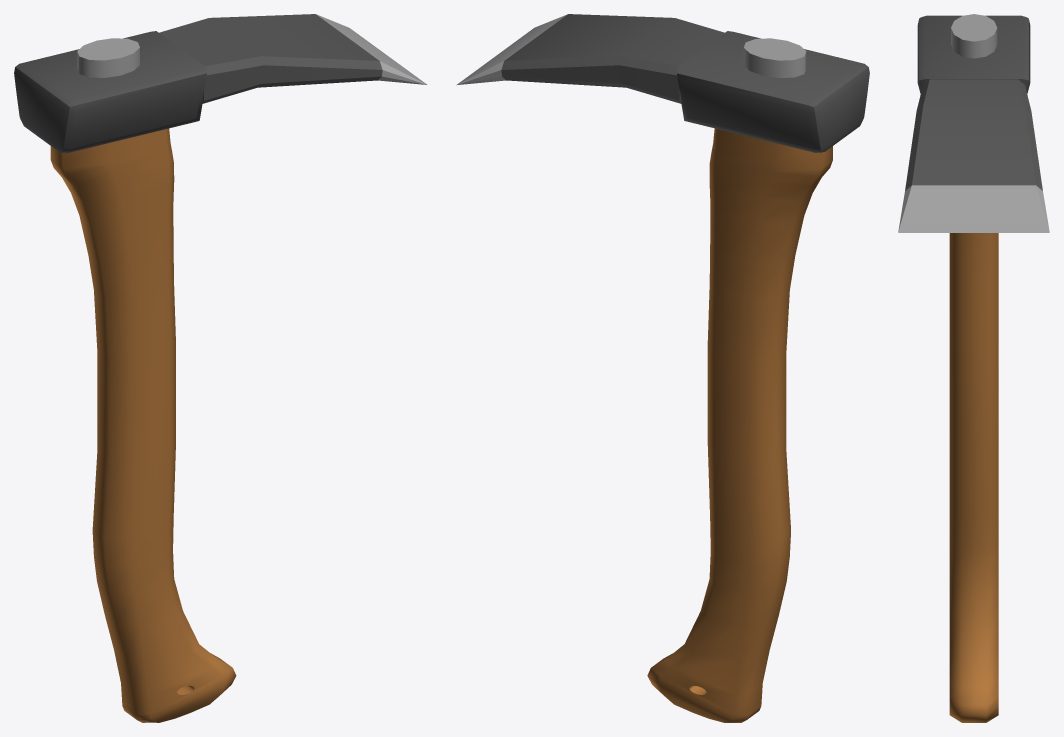
Rendered from tillage.fbx.
3 renders of one model, left to right at view 1: azimuth 30°, elevation 25°; view 2: azimuth 150°, elevation 25°; view 3: azimuth 270°, elevation 25°, orthographic. The views are drawn at different scales.
Parts seen in each view (by area): view 1: M_AxeHandle, Cube.001, Cube.002; view 2: M_AxeHandle, Cube.001, Cube.002; view 3: M_AxeHandle, Cube.002, Cube.001.
Boxes of the visible parts, x1,y1,x2,y2 form: M_AxeHandle: (50, 38, 236, 722); Cube.001: (14, 31, 206, 152); Cube.002: (159, 14, 427, 103); M_AxeHandle: (647, 38, 832, 722); Cube.001: (677, 31, 869, 152); Cube.002: (456, 14, 724, 103); M_AxeHandle: (949, 14, 998, 722); Cube.002: (898, 79, 1049, 232); Cube.001: (917, 15, 1030, 93).
Bounding box in the file's own units: 0.261 × 0.1013 × 0.4827.
